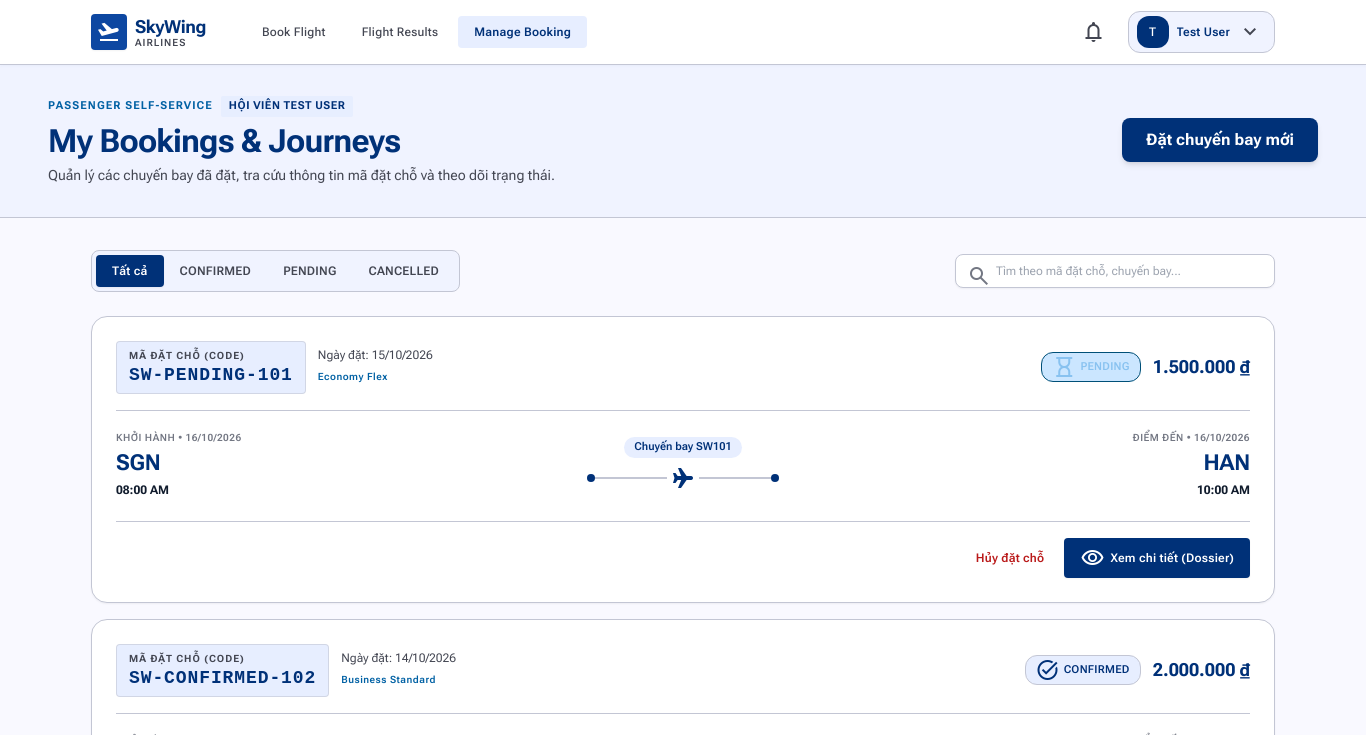
Test: MyBookingsPage › opening a card fetches its ID detail
Expected: the text "SW-PENDING-101" is shown, [129,364,293,384]
Click the button "Xem chi tiết (Dossier)" at (1157, 558), box [1064,538,1250,578]
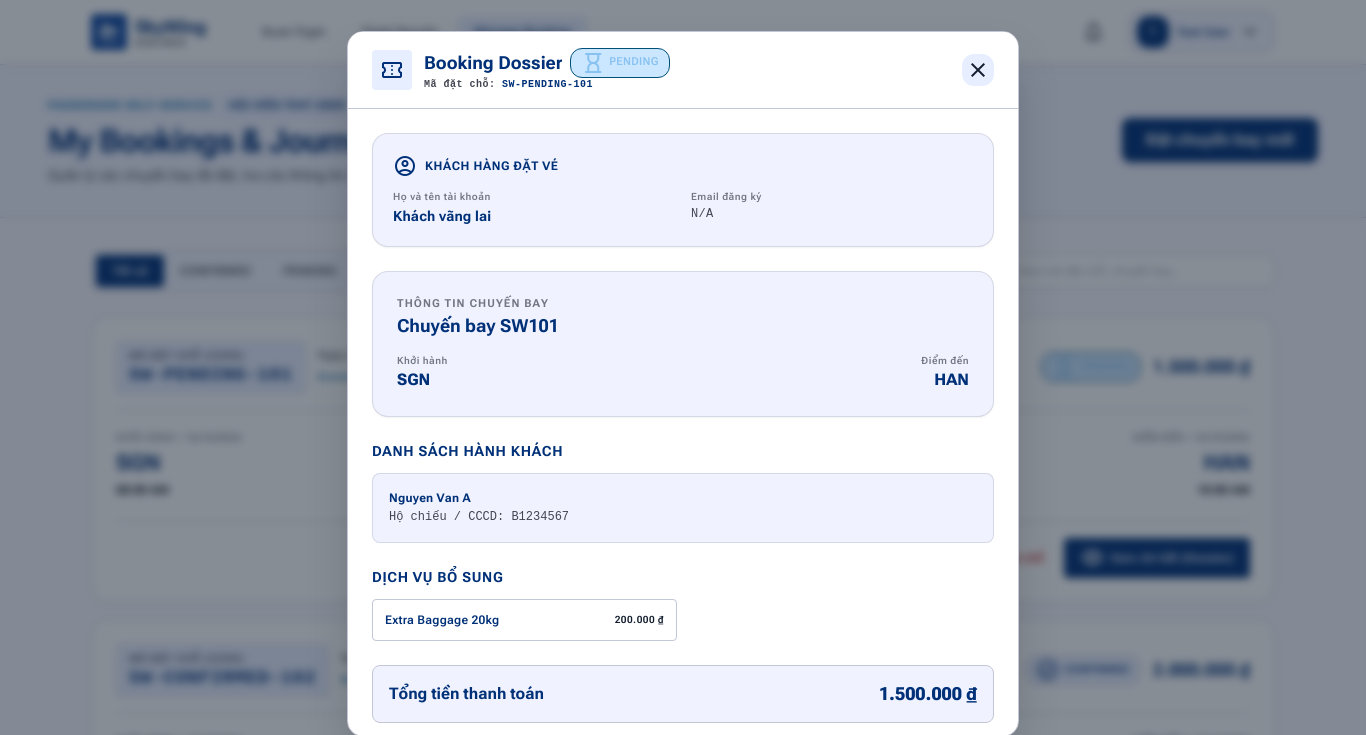
Expected: the text "Nguyen Van A" is shown, [389,491,471,505]
Expected: the text "Extra Baggage 20kg" is shown, [385,612,499,628]
